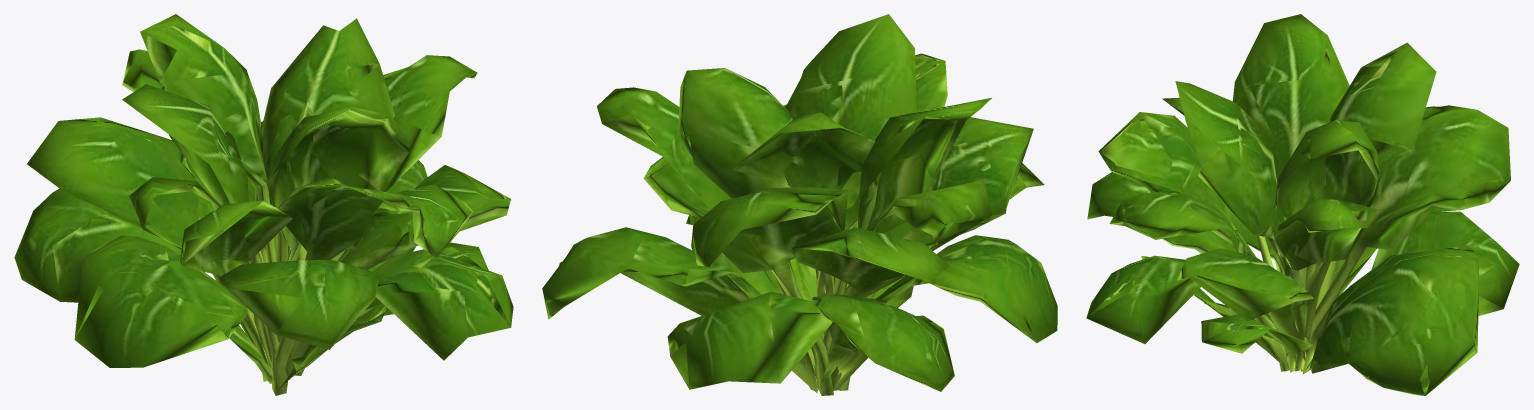
File: crop_spinach.glb
The picture shows the model from 3 angles, left to right: view 1: azimuth 30°, elevation 25°; view 2: azimuth 150°, elevation 25°; view 3: azimuth 270°, elevation 25°; orthographic projection. The views are drawn at different scales.
Size of the model in its own units: 0.9927 by 0.7589 by 0.9953.
1 material, 1 textured.
